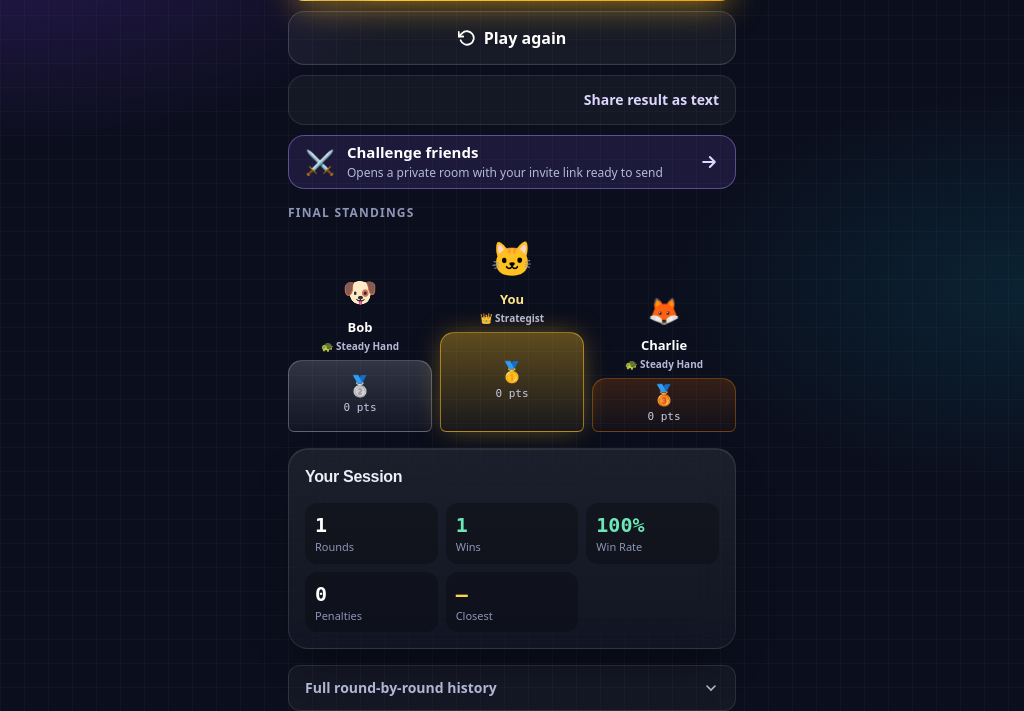
Test: GameOverScreen › summarises rounds and toggles the full round history
(page scrolled)
Click the button "Full round-by-round history": {"x": 401, "y": 688} [288, 665, 736, 710]
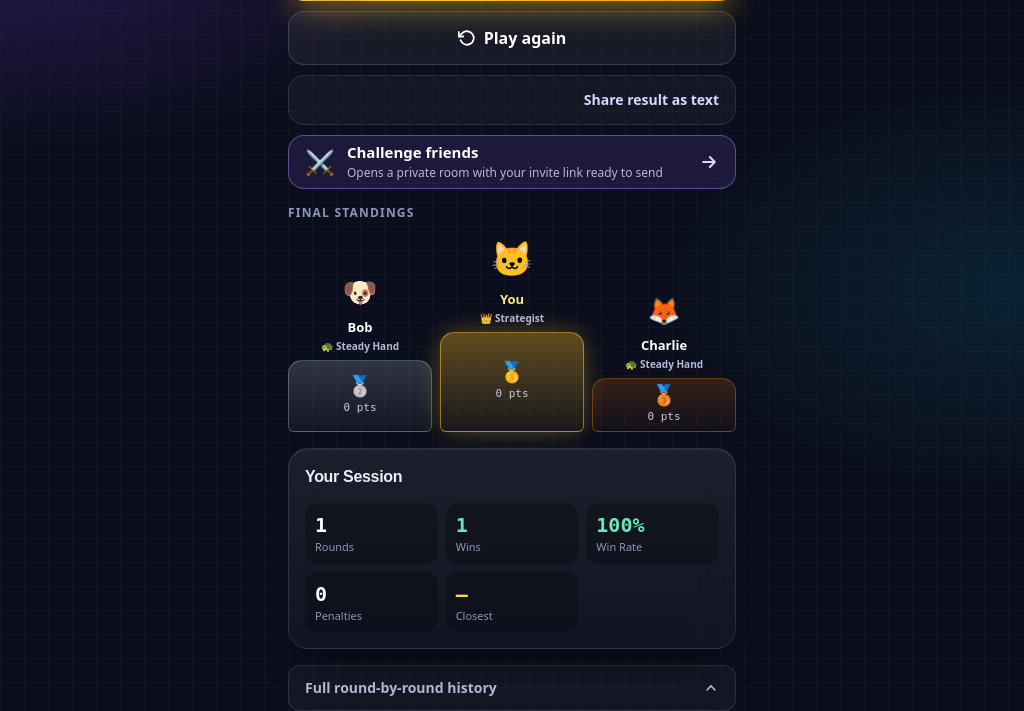
Result: the button "Full round-by-round history" is expanded at [288, 665, 736, 710]
